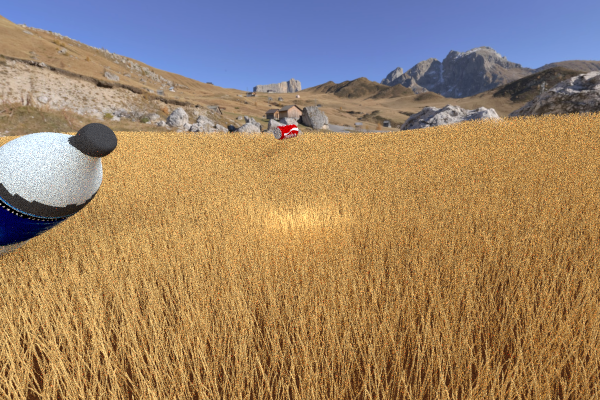bottle: (0, 122, 117, 263)
can: (175, 121, 215, 161), (273, 124, 298, 139)
